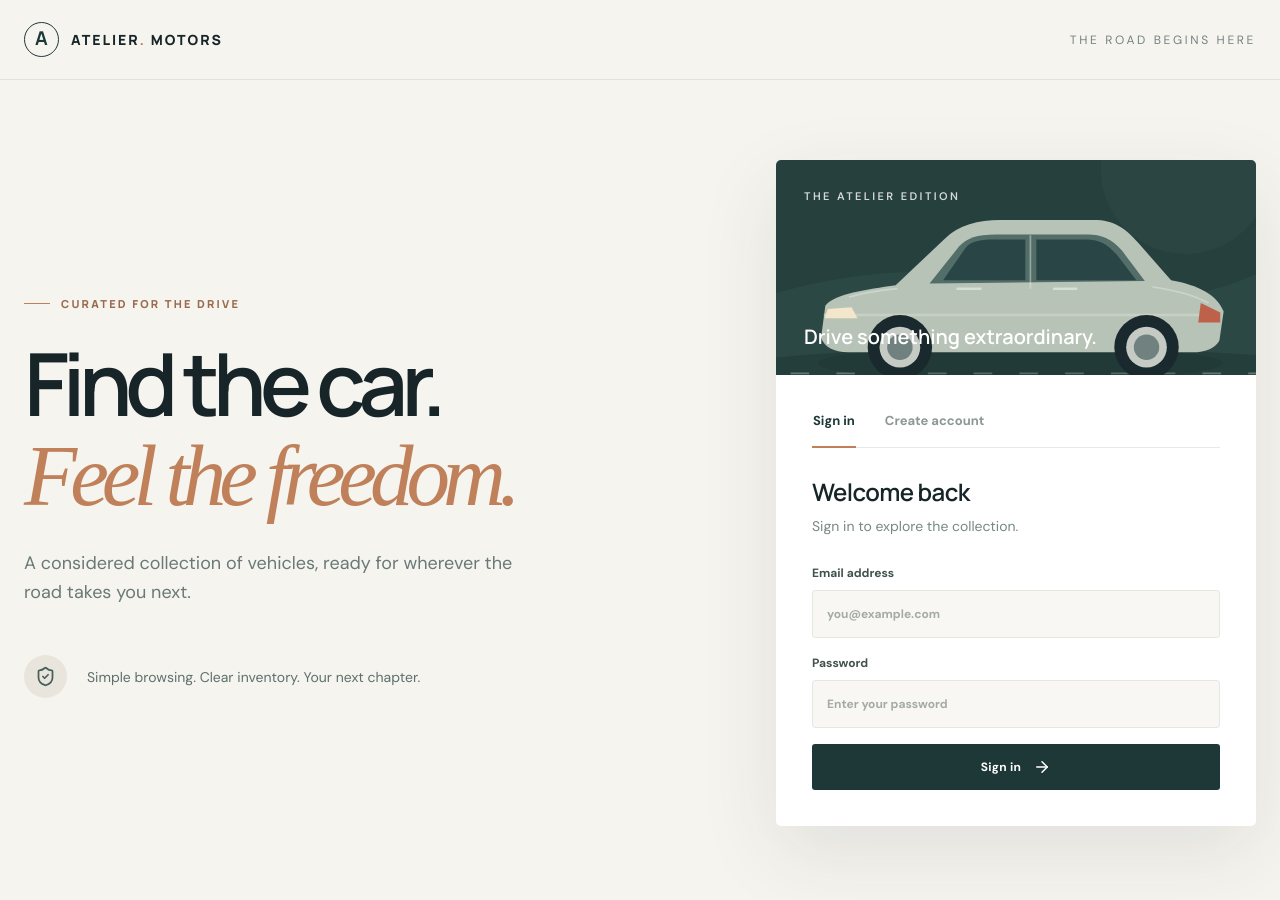
Test: inventory SPA › logs in and loads inventory with the bearer token
The width and height of the screenshot is (1280, 900).
Type "buyer@example.com" into the field labelled "Email address" at (1016, 614), box top-left (812, 590), bottom-right (1220, 638)
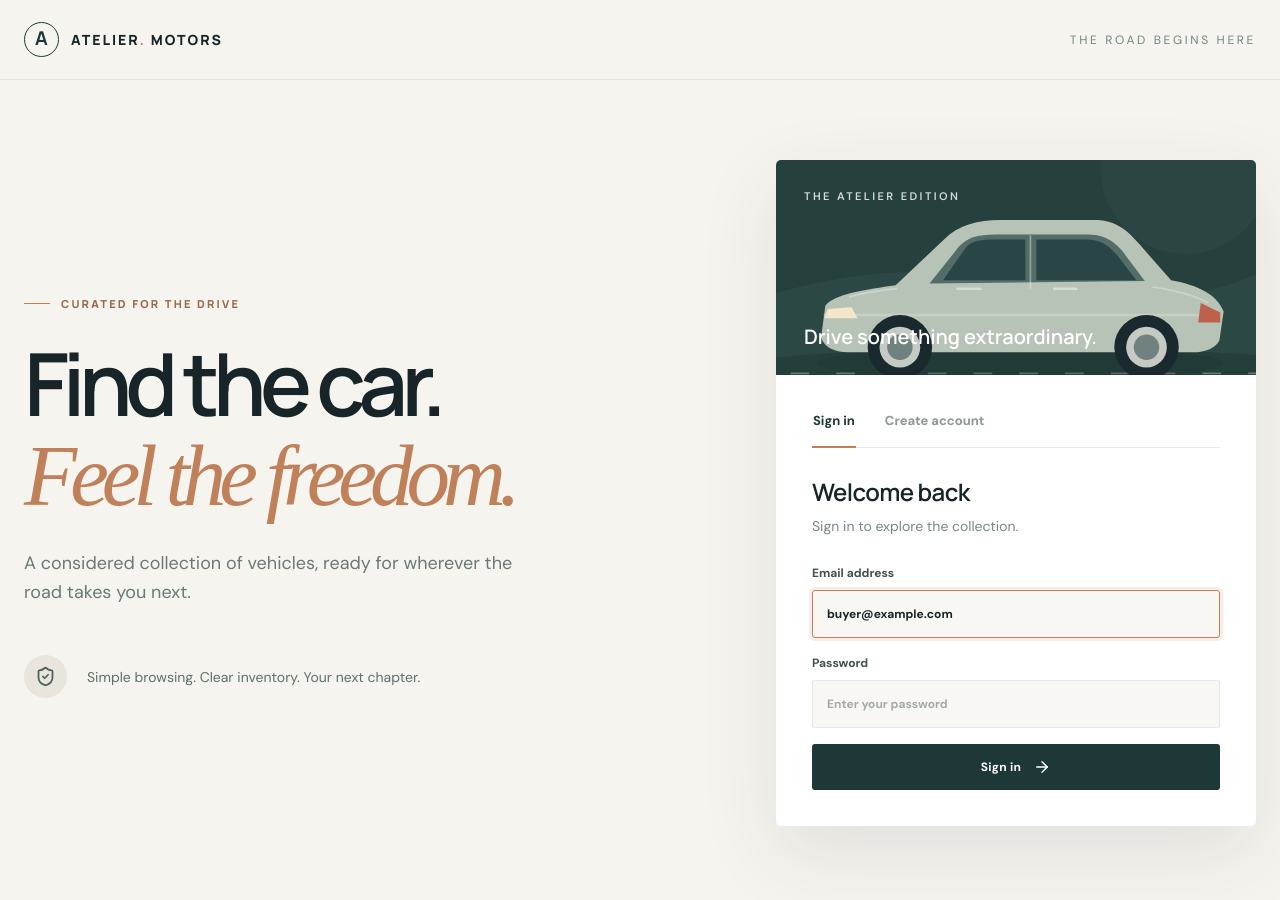
Type "SecurePass123!" into the password field labelled "Password" at (1016, 704), box top-left (812, 680), bottom-right (1220, 728)
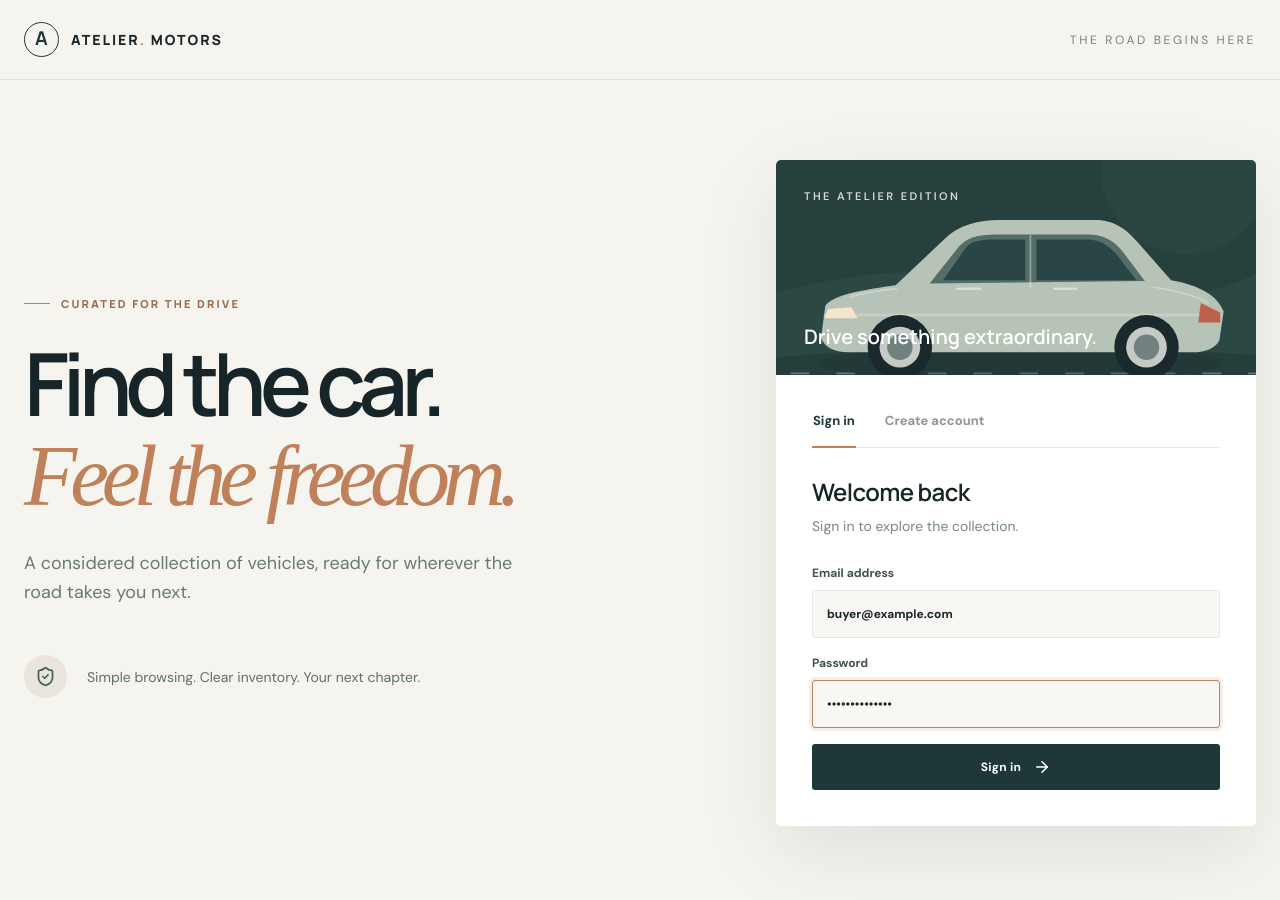
Click the button "Sign in" at (1016, 766), box top-left (812, 744), bottom-right (1220, 790)
(page scrolled)
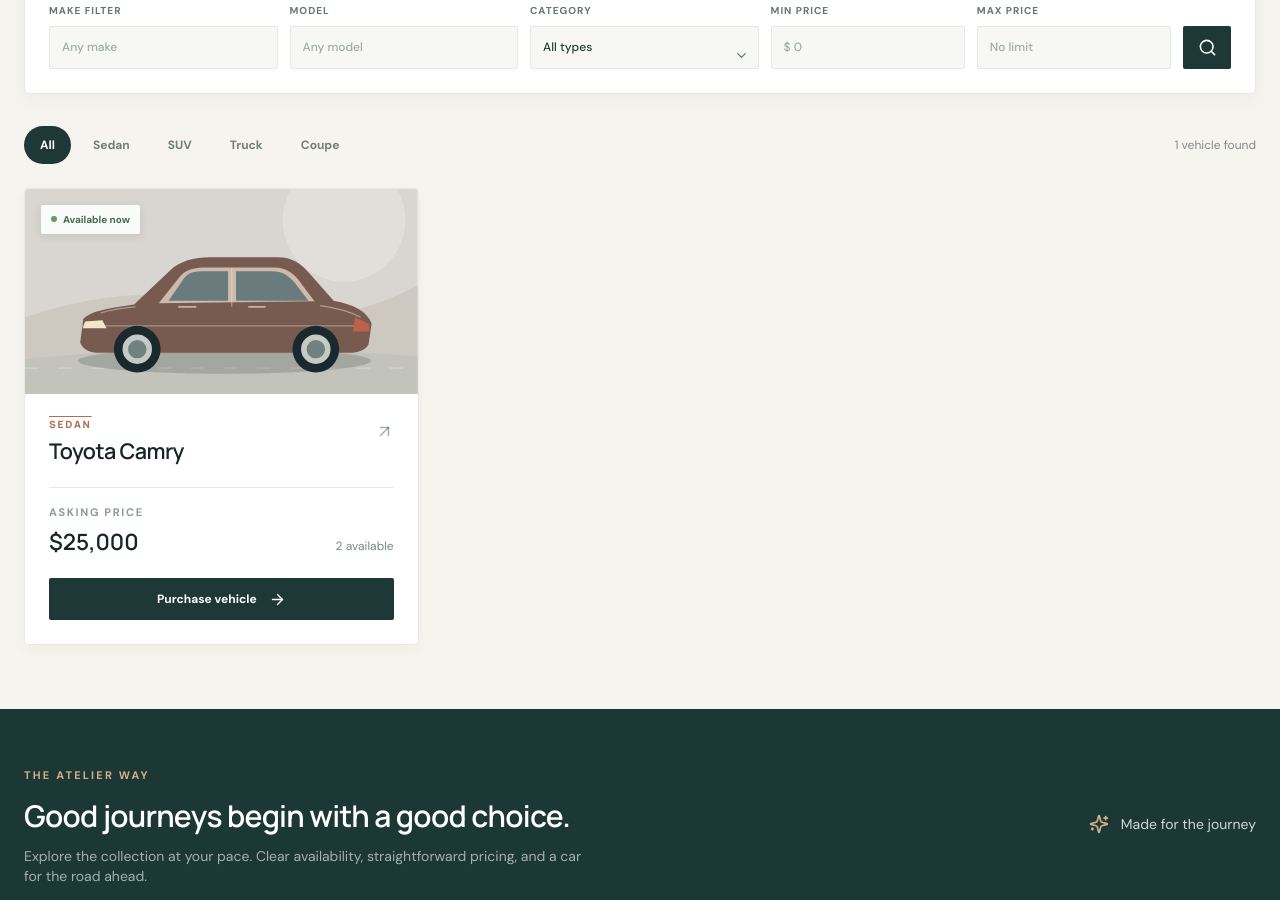
Now the heading "Toyota Camry" is shown, box top-left (49, 435), bottom-right (184, 467)
